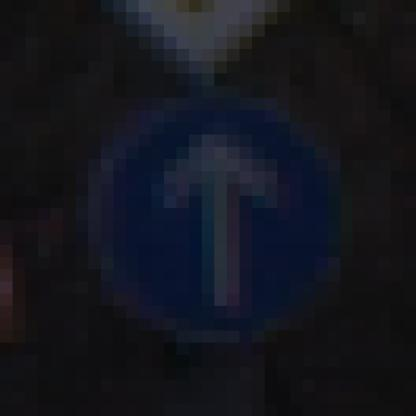AheadOnly: (77, 62, 354, 356)
